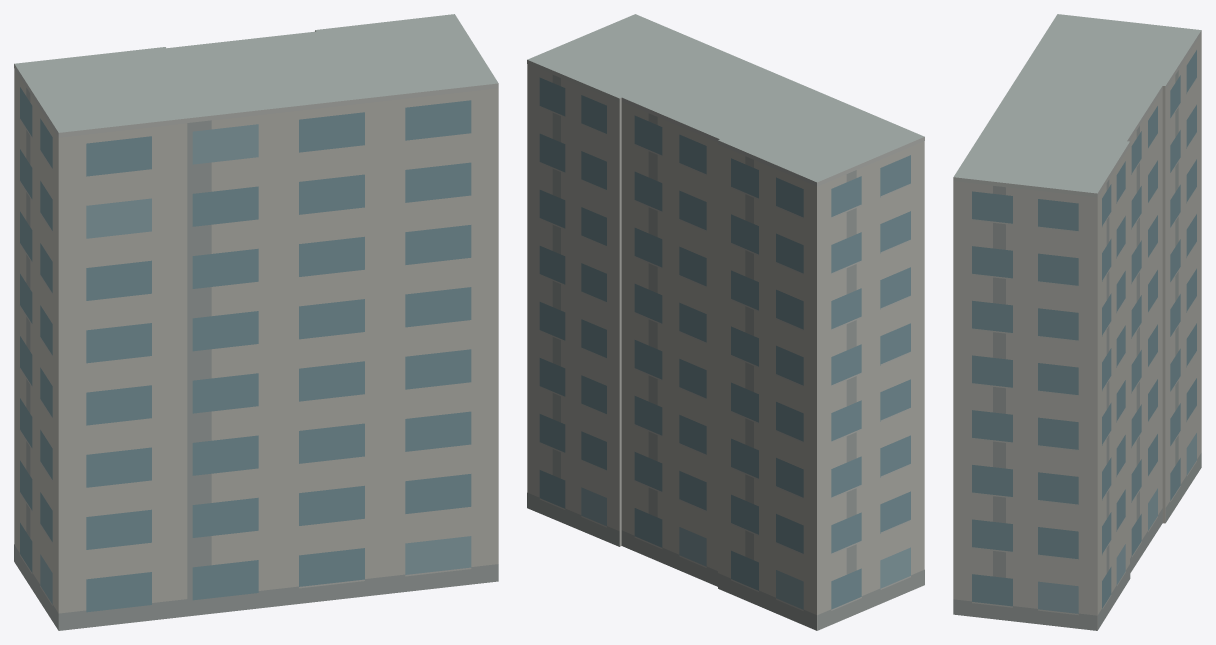
Rendered from survey-upis-32758569.glb.
3 views of the same model, side by side, from view 1: azimuth 30°, elevation 25°; view 2: azimuth 150°, elevation 25°; view 3: azimuth 270°, elevation 25° (orthographic). The views are drawn at different scales.
Parts seen in each view (by area): view 1: survey-upis-32758569.tmp; view 2: survey-upis-32758569.tmp; view 3: survey-upis-32758569.tmp.
Boxes of the visible parts, x1=… form: survey-upis-32758569.tmp: x1=14, y1=14, x2=498, y2=630; survey-upis-32758569.tmp: x1=527, y1=14, x2=924, y2=630; survey-upis-32758569.tmp: x1=953, y1=14, x2=1201, y2=630.
Size of the model in its own units: 22.9 by 26 by 13.38.
